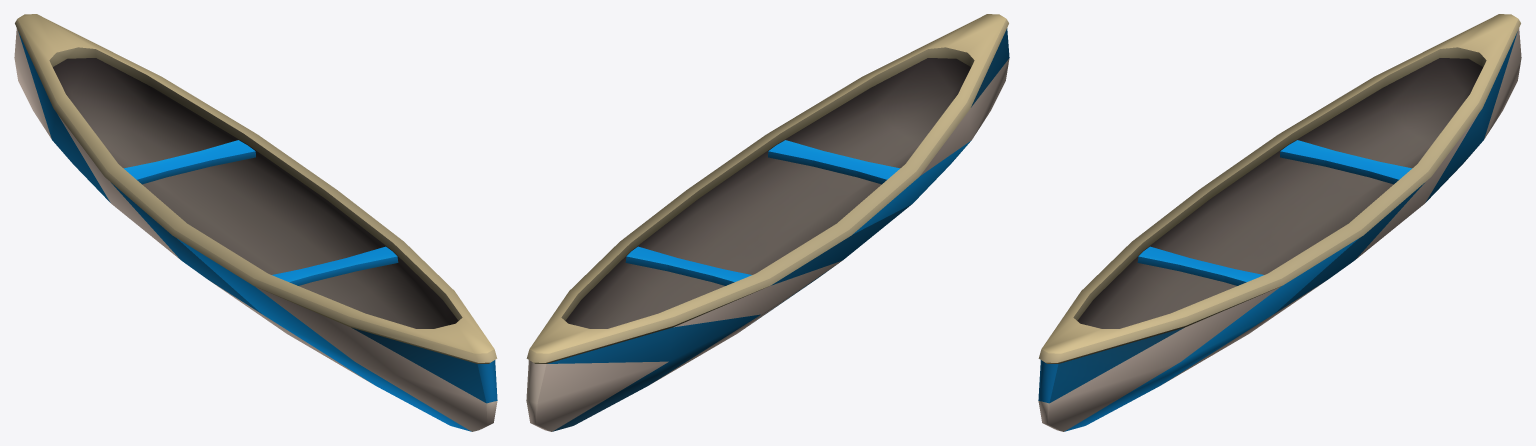
Rendered from Canoe_1D.fbx.
The picture shows the model from 3 angles, left to right: view 1: azimuth 30°, elevation 25°; view 2: azimuth 150°, elevation 25°; view 3: azimuth 330°, elevation 25°; orthographic projection.
Visible parts, largest first — view 1: Canoe_1D; view 2: Canoe_1D; view 3: Canoe_1D.
Part boxes in pixels (left/top/right/bottom): Canoe_1D: left=14, top=14, right=497, bottom=431; Canoe_1D: left=526, top=14, right=1009, bottom=431; Canoe_1D: left=1038, top=14, right=1521, bottom=431.
Size of the model in its own units: 85.06 by 47.97 by 416.
